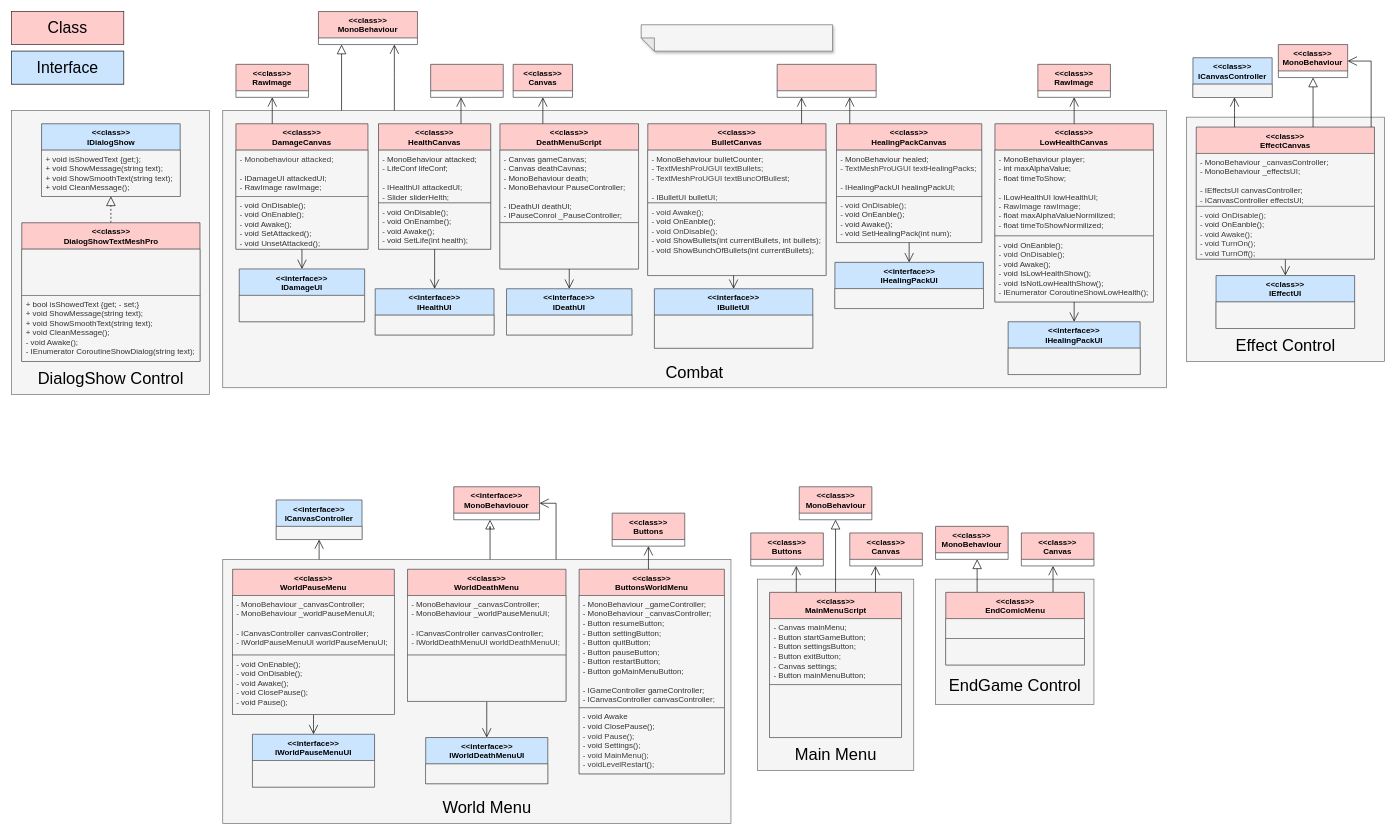
Image size: 1396x835. Some labels were removed from this diagram. Here are the shapes that lost their labels. From the top down, the centre of each, then its label:
pixel 737 38: Object dont know about UI Is the reason why used only event Action
pixel 466 80: <<class>> Slider
pixel 826 80: <<class>> TextMeshProUGUI
pixel 569 245: - void OnDisable(); - void OnEanble(); - void Awake(); - void Death();
pixel 110 271: - float timeShowText; - TextMeshProUGUI textDialog; - Coroutine coroutine;
pixel 302 308: + event Action OnSetAttacked; +event Action OnUnsetAttacked;
pixel 908 298: + event Action<int> OnSetHealngPacks;
pixel 1285 314: + event Action OnEnableEffect; + event Action OnDisableEffect;
pixel 434 324: + event Action<int> OnSetLife;
pixel 569 324: + event Action<int> OnDeath;
pixel 733 331: + event Action<int, int> OnSetBullet; + event Action<int> OnSetBunchOfBullets;
pixel 1073 361: + event Action OnIsLowHealth; + event Action OnIsNotLowHealth;
pixel 1014 628: - Button mainMenu;
pixel 1014 651: - void Awake(); - void MeinMenu();
pixel 486 677: - void OnEnable(); - void OnDisable(); - void Awake(); - void Death();
pixel 835 711: - void Awake(); - StartGame(); - Settings(); - Quit(); - MainMenu();
pixel 313 773: + event Action OnPause; + event Action OnUnpause;
pixel 486 773: + event Action OnDeath;
